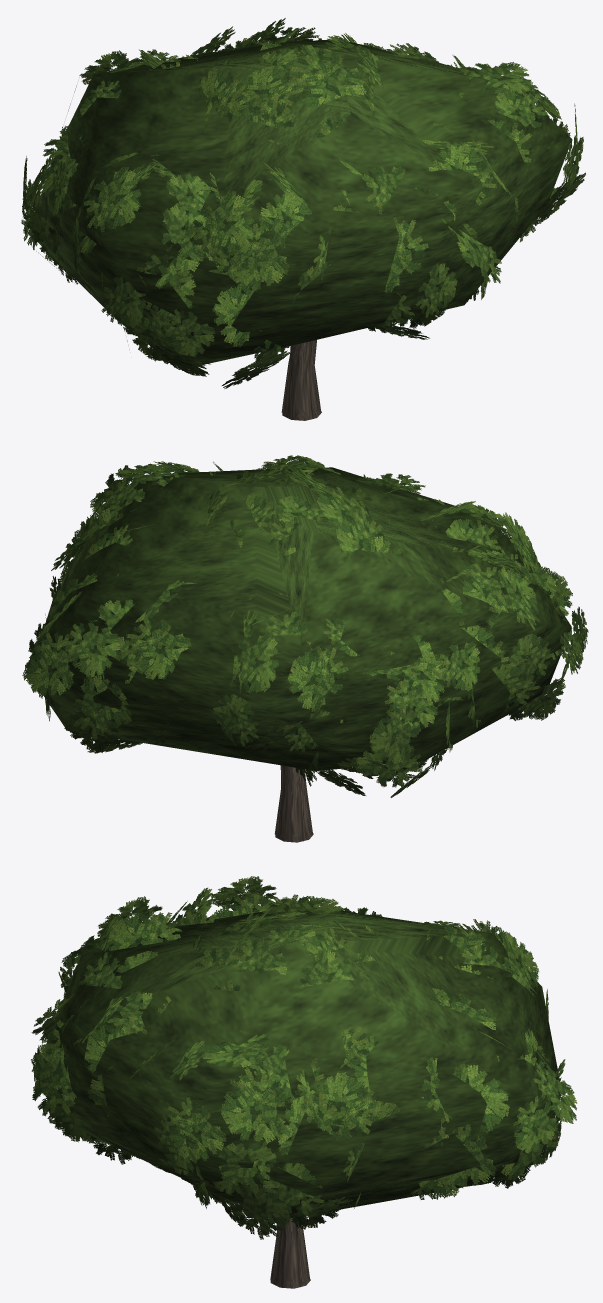
Rendered from rain_tree.fbx.
The picture shows the model from 3 angles, top to bottom: view 1: azimuth 30°, elevation 25°; view 2: azimuth 150°, elevation 25°; view 3: azimuth 270°, elevation 25°; orthographic projection. The views are drawn at different scales.
Visible parts, largest first — view 1: RainTreeFar, RainTree; view 2: RainTreeFar, RainTree; view 3: RainTreeFar, RainTree.
Part boxes in pixels (x1,y1,x2,y2): RainTreeFar: (28,40,572,419); RainTree: (21,18,585,420); RainTreeFar: (32,467,571,841); RainTree: (22,455,588,842); RainTreeFar: (45,902,561,1287); RainTree: (31,876,577,1288).
Bounding box in the file's own units: 1732 × 1252 × 1722.
